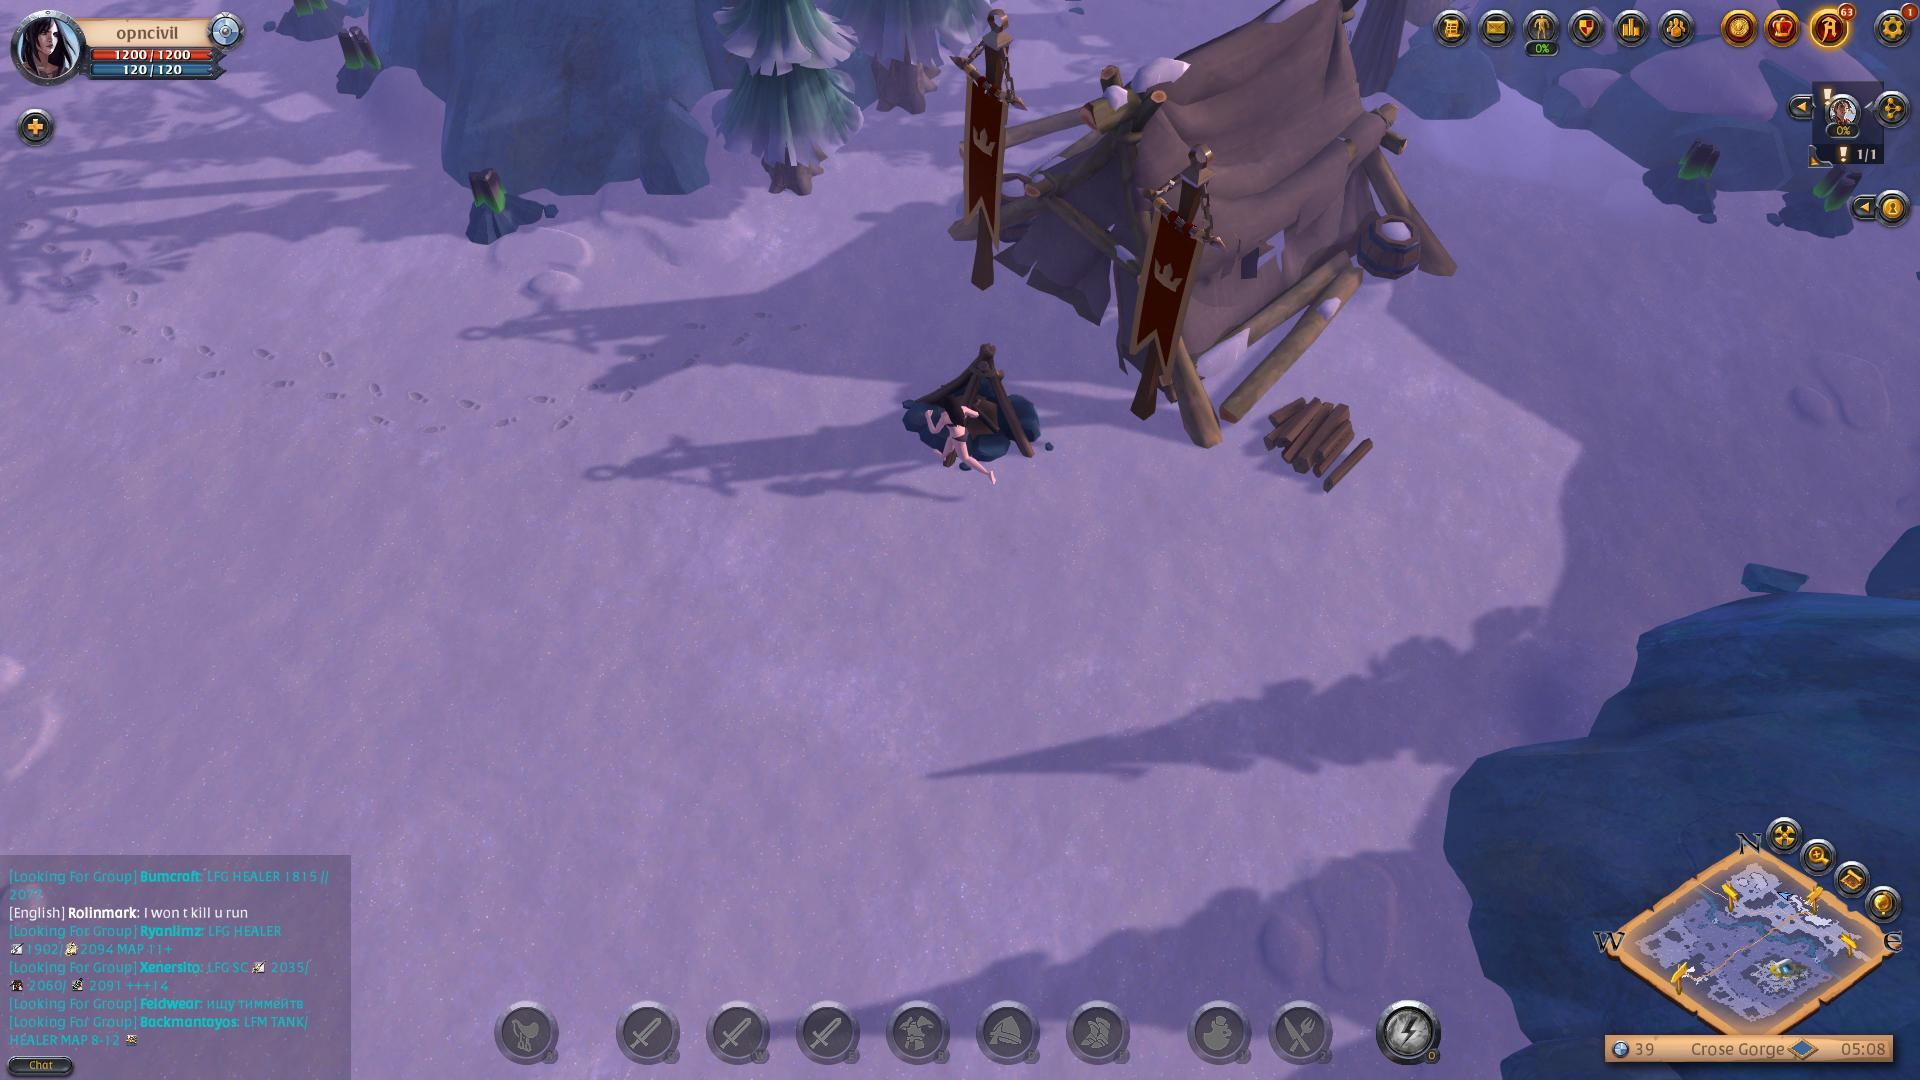tin_ore: (460, 156, 564, 260), (1635, 125, 1729, 224), (327, 24, 406, 105)
